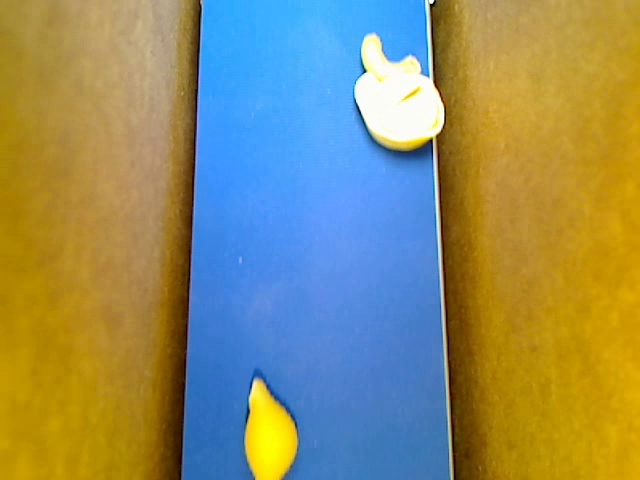elbow: (358, 31, 421, 74)
shell: (245, 375, 299, 479)
tortellini: (354, 70, 445, 153)
